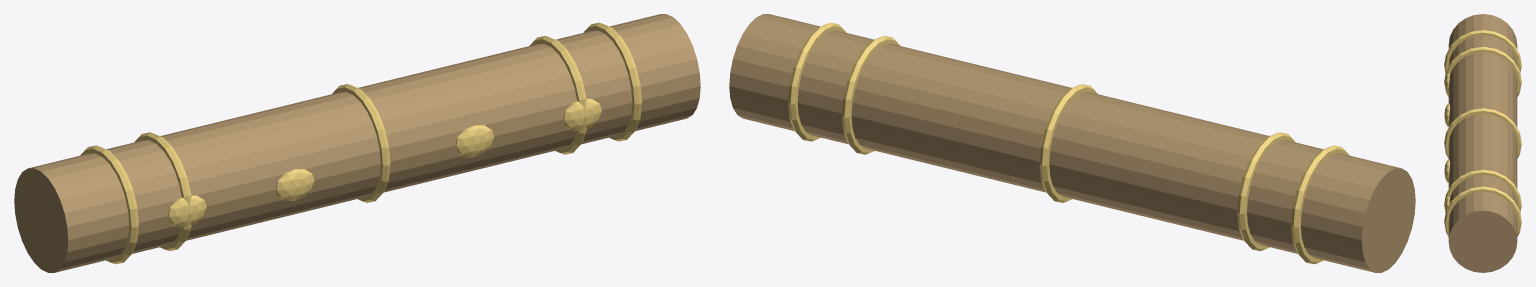
The model's file is writing_bunchin.glb.
3 views of the same model, side by side, from view 1: azimuth 30°, elevation 25°; view 2: azimuth 150°, elevation 25°; view 3: azimuth 270°, elevation 25° (orthographic). The views are drawn at different scales.
Visible parts, largest first — view 1: Brass carved paperweight, Engraved end section.004, Engraved end section, Engraved end section.002, Engraved end section.003, Engraved end section.001, Metal inlay.002, Metal inlay.001, Metal inlay, Metal inlay.003; view 2: Brass carved paperweight, Engraved end section.001, Engraved end section.003, Engraved end section.004, Engraved end section, Engraved end section.002; view 3: Brass carved paperweight, Engraved end section.002, Engraved end section.004, Engraved end section, Engraved end section.001, Engraved end section.003, Metal inlay.001, Metal inlay.002, Metal inlay, Metal inlay.003.
Part boxes in pixels (<box>): Brass carved paperweight: <box>14,14,700,272</box>; Engraved end section.004: <box>583,22,641,141</box>; Engraved end section: <box>80,145,138,264</box>; Engraved end section.002: <box>332,84,390,202</box>; Engraved end section.003: <box>529,36,586,154</box>; Engraved end section.001: <box>134,132,191,250</box>; Metal inlay.002: <box>455,125,493,157</box>; Metal inlay.001: <box>276,169,314,200</box>; Metal inlay: <box>168,195,206,227</box>; Metal inlay.003: <box>563,99,601,130</box>; Brass carved paperweight: <box>729,14,1415,272</box>; Engraved end section.001: <box>1237,132,1295,250</box>; Engraved end section.003: <box>842,36,900,154</box>; Engraved end section.004: <box>788,22,846,141</box>; Engraved end section: <box>1291,145,1349,264</box>; Engraved end section.002: <box>1039,84,1097,202</box>; Brass carved paperweight: <box>1448,14,1517,272</box>; Engraved end section.002: <box>1444,108,1521,158</box>; Engraved end section.004: <box>1444,186,1521,236</box>; Engraved end section: <box>1444,30,1521,72</box>; Engraved end section.001: <box>1444,47,1521,96</box>; Engraved end section.003: <box>1444,169,1521,212</box>; Metal inlay.001: <box>1444,104,1450,126</box>; Metal inlay.002: <box>1444,160,1449,182</box>; Metal inlay: <box>1444,73,1449,93</box>; Metal inlay.003: <box>1444,196,1449,211</box>.
Size of the model in its own units: 1.95 by 0.3257 by 0.3257.
